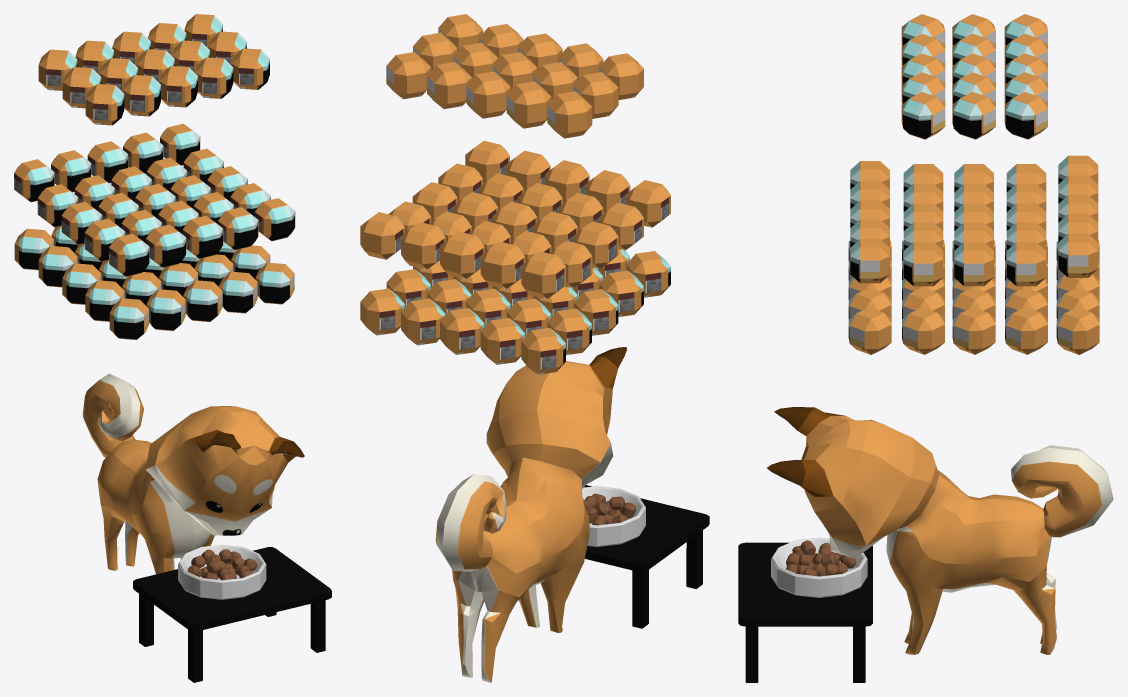
File: fullBowl_frame64.obj
The picture shows the model from 3 angles, left to right: view 1: azimuth 30°, elevation 25°; view 2: azimuth 150°, elevation 25°; view 3: azimuth 270°, elevation 25°; orthographic projection. The views are drawn at different scales.
Visible parts, largest first — view 1: newRigging1:BodzL1, Tisch:Tisch:pCube1, FressnapfFull:bulletRigidSetSolved1, FressnapfFull:pCube45, FressnapfFull:pCube46, FressnapfFull:pCube57, FressnapfFull:pCube48, FressnapfFull:pCube50, FressnapfFull:pCube43, FressnapfFull:pCube49, FressnapfFull:pCube42, FressnapfFull:pCube36 (+44 smaller); view 2: newRigging1:BodzL1, Tisch:Tisch:pCube1, FressnapfFull:bulletRigidSetSolved1, FressnapfFull:pCube39, FressnapfFull:pCube51, FressnapfFull:pCube64, FressnapfFull:pCube54, FressnapfFull:pCube37, FressnapfFull:pCube61, FressnapfFull:pCube55, FressnapfFull:pCube53, FressnapfFull:pCube41 (+45 smaller); view 3: newRigging1:BodzL1, Tisch:Tisch:pCube1, FressnapfFull:bulletRigidSetSolved1, FressnapfFull:pCube36, FressnapfFull:pCube4, FressnapfFull:pCube41, FressnapfFull:pCube50, FressnapfFull:pCube55, FressnapfFull:pCube31, FressnapfFull:pCube20, FressnapfFull:pCube10, FressnapfFull:pCube15 (+42 smaller).
Part boxes in pixels (x1,y1,x2,y2): newRigging1:BodzL1: (82,373,304,574); Tisch:Tisch:pCube1: (133,547,331,682); FressnapfFull:bulletRigidSetSolved1: (178,544,266,599); FressnapfFull:pCube45: (85,84,124,125); FressnapfFull:pCube46: (109,298,148,339); FressnapfFull:pCube57: (109,233,149,276); FressnapfFull:pCube48: (183,280,222,321); FressnapfFull:pCube50: (255,262,294,304); FressnapfFull:pCube43: (159,66,197,107); FressnapfFull:pCube49: (146,289,185,330); FressnapfFull:pCube42: (122,75,160,116); FressnapfFull:pCube36: (231,48,269,89); newRigging1:BodzL1: (435,347,626,682); Tisch:Tisch:pCube1: (584,485,709,628); FressnapfFull:bulletRigidSetSolved1: (582,486,645,546); FressnapfFull:pCube39: (547,91,592,138); FressnapfFull:pCube51: (521,327,565,374); FressnapfFull:pCube64: (521,251,565,298); FressnapfFull:pCube54: (480,318,525,364); FressnapfFull:pCube37: (506,81,551,128); FressnapfFull:pCube61: (480,241,525,289); FressnapfFull:pCube55: (360,288,404,335); FressnapfFull:pCube53: (440,308,484,354); FressnapfFull:pCube41: (386,52,430,99); newRigging1:BodzL1: (767,407,1113,654); Tisch:Tisch:pCube1: (738,542,872,682); FressnapfFull:bulletRigidSetSolved1: (771,537,867,597); FressnapfFull:pCube36: (901,92,945,139); FressnapfFull:pCube4: (952,307,995,354); FressnapfFull:pCube41: (1004,92,1047,139); FressnapfFull:pCube50: (848,307,891,354); FressnapfFull:pCube55: (1056,307,1099,354); FressnapfFull:pCube31: (952,92,995,139); FressnapfFull:pCube20: (1006,242,1046,286); FressnapfFull:pCube10: (902,307,944,354); FressnapfFull:pCube15: (1005,307,1047,354).
Bounding box in the file's own units: 5.73 × 16.34 × 9.44.
Materials: 4 (3 with a texture image).
